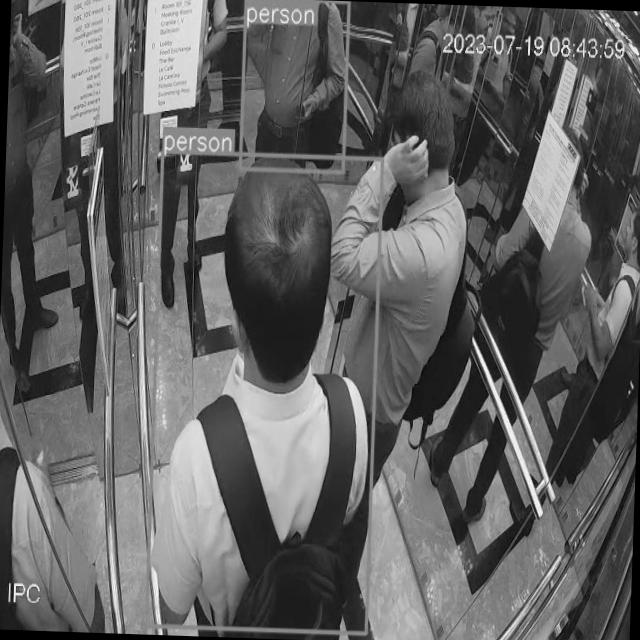person: (122, 127, 366, 629), (319, 77, 478, 630), (0, 190, 134, 603), (243, 0, 347, 175)
